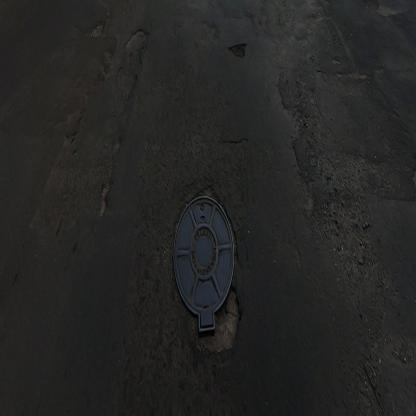manholes: (172, 182, 244, 348)
